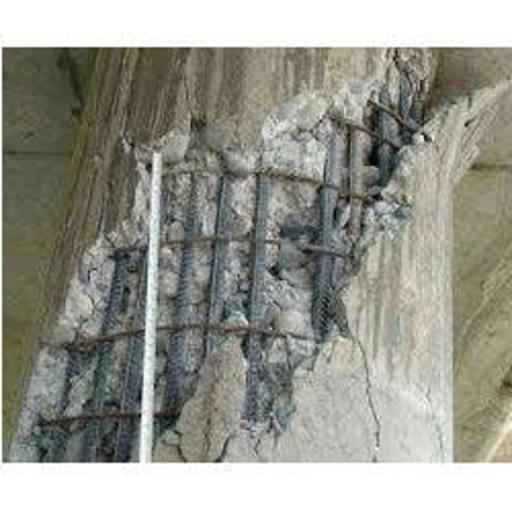spalling: (63, 77, 459, 446)
